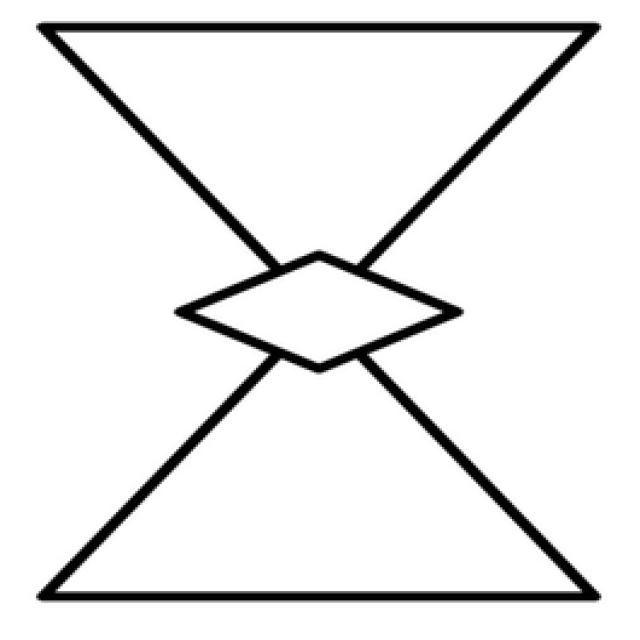Plug Valve: (43, 22, 596, 367), (42, 351, 595, 595)
